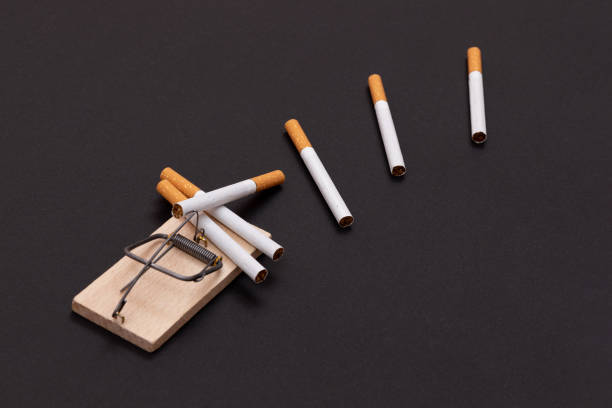cigarette: (155, 178, 269, 284), (159, 165, 284, 260), (286, 119, 356, 230), (172, 166, 284, 217), (369, 73, 411, 179), (467, 48, 490, 151)
